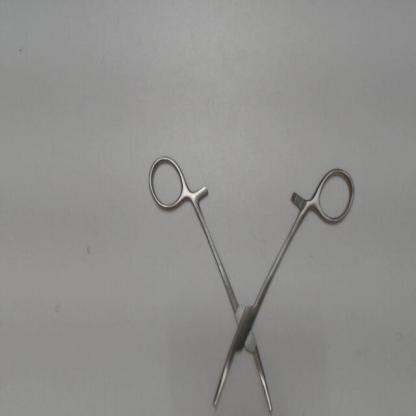Crile Artery Forceps: (144, 153, 364, 414)
